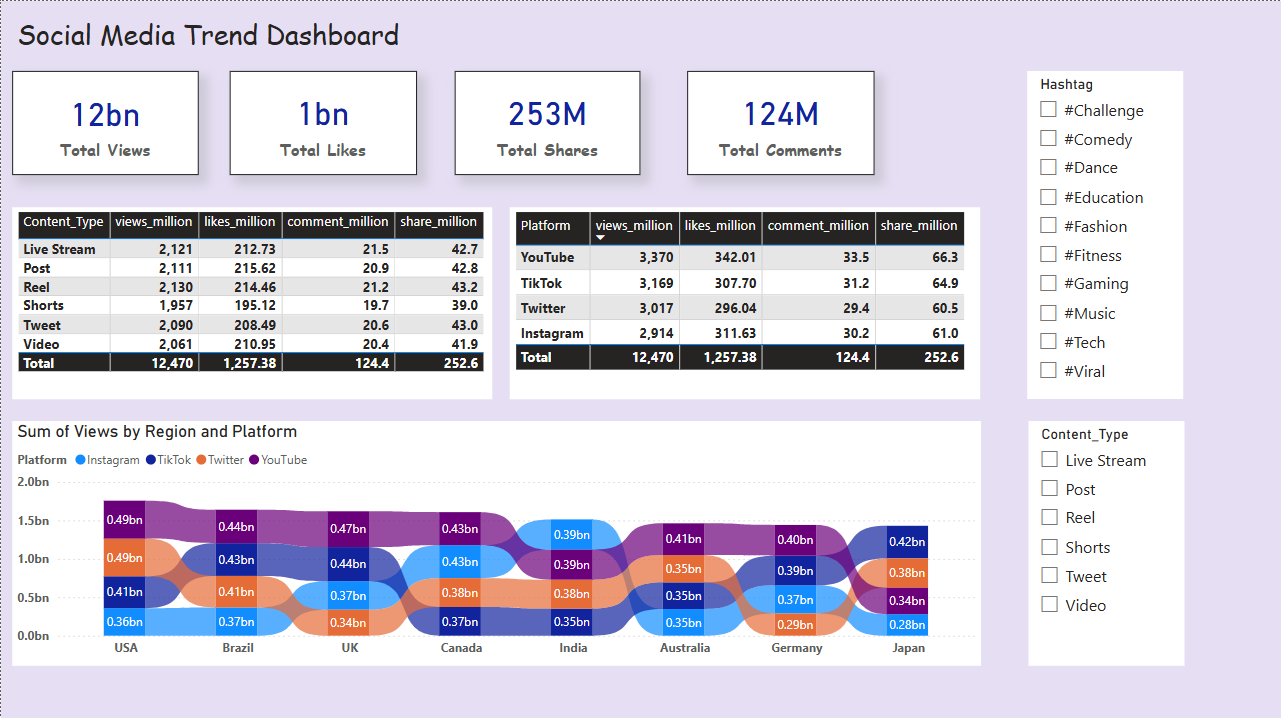

The page's visual inventory and layout, read from the dashboard file:
{"tool":"powerbi","page":{"name":"Main BI Report","canvas":[1280,720],"ordinal":0},"visuals":[{"type":"textbox","box":[11,9.6,404.8,50.8],"z":0},{"type":"card","fields":{"Values":["Sum(Viral_Social_Media_Trends.Likes)"]},"box":[229.2,70,187,103.8],"z":1000},{"type":"card","fields":{"Values":["Sum(Viral_Social_Media_Trends.Views)"]},"box":[11,70,186.6,104.3],"z":2000},{"type":"card","fields":{"Values":["Sum(Viral_Social_Media_Trends.Shares)"]},"box":[453.6,70,185.8,103.8],"z":3000},{"type":"card","fields":{"Values":["Sum(Viral_Social_Media_Trends.Comments)"]},"box":[686.5,70,187,103.8],"z":4000},{"type":"tableEx","fields":{"Values":["Viral_Social_Media_Trends.Content_Type","Viral_Social_Media_Trends.views_million","Viral_Social_Media_Trends.likes_million","Viral_Social_Media_Trends.comment_million","Viral_Social_Media_Trends.share_million"]},"box":[10.9,206.3,480.2,191.8],"z":5000},{"type":"tableEx","fields":{"Values":["Viral_Social_Media_Trends.Platform","Viral_Social_Media_Trends.views_million","Viral_Social_Media_Trends.likes_million","Viral_Social_Media_Trends.comment_million","Viral_Social_Media_Trends.share_million"]},"box":[509.1,206.3,470.5,191.8],"z":6000},{"type":"ribbonChart","fields":{"Category":["Viral_Social_Media_Trends.Region"],"Y":["Sum(Viral_Social_Media_Trends.Views)"],"Series":["Viral_Social_Media_Trends.Platform"]},"box":[10.9,419.8,968.8,244.9],"z":7000},{"type":"slicer","fields":{"Values":["Viral_Social_Media_Trends.Hashtag"]},"box":[1026.7,70,155.6,328.2],"z":8000},{"type":"slicer","fields":{"Values":["Viral_Social_Media_Trends.Content_Type"]},"box":[1027.9,419.8,155.6,244.9],"z":9000}]}

Visuals, with their boxes in screenshot pixels (x1, y1, x2, y2), scaled from the page's 1280x720 canvas onto the 1281x718 screenshot:
textbox: BBox(11, 10, 416, 60)
card - Sum(Viral_Social_Media_Trends.Likes): BBox(229, 70, 417, 173)
card - Sum(Viral_Social_Media_Trends.Views): BBox(11, 70, 198, 174)
card - Sum(Viral_Social_Media_Trends.Shares): BBox(454, 70, 640, 173)
card - Sum(Viral_Social_Media_Trends.Comments): BBox(687, 70, 874, 173)
tableEx - Viral_Social_Media_Trends.Content_Type x Viral_Social_Media_Trends.views_million: BBox(11, 206, 491, 397)
tableEx - Viral_Social_Media_Trends.Platform x Viral_Social_Media_Trends.views_million: BBox(509, 206, 980, 397)
ribbonChart - Viral_Social_Media_Trends.Region x Sum(Viral_Social_Media_Trends.Views): BBox(11, 419, 980, 663)
slicer - Viral_Social_Media_Trends.Hashtag: BBox(1028, 70, 1183, 397)
slicer - Viral_Social_Media_Trends.Content_Type: BBox(1029, 419, 1184, 663)
